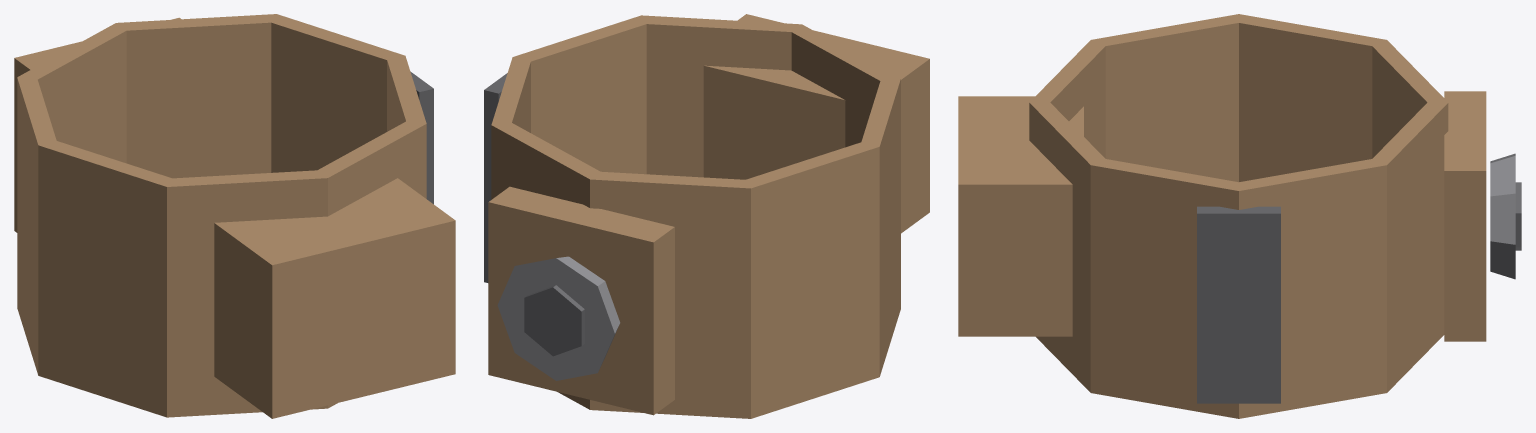
Rendered from prop-palm-thimble.fbx.
3 renders of one model, left to right at view 1: azimuth 30°, elevation 25°; view 2: azimuth 150°, elevation 25°; view 3: azimuth 270°, elevation 25°, orthographic.
Visible parts, largest first — view 1: prop-palm-thimble; view 2: prop-palm-thimble; view 3: prop-palm-thimble.
Boxes of the visible parts, bbox=[...] form: prop-palm-thimble: bbox=[14, 14, 455, 418]; prop-palm-thimble: bbox=[484, 14, 929, 418]; prop-palm-thimble: bbox=[958, 14, 1521, 418].
Bounding box in the file's own units: 10.2 × 6 × 13.45.
